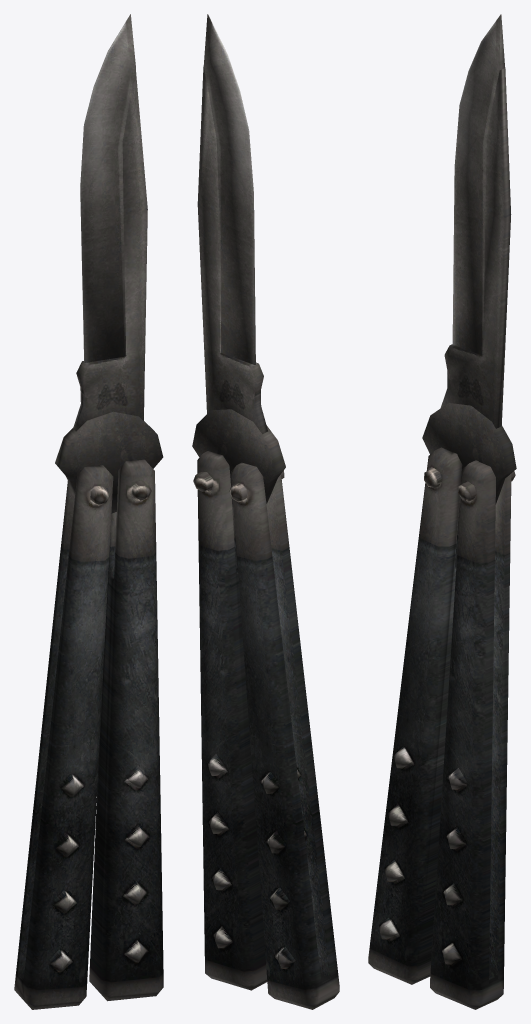
File: TP_Butterfly.obj
The picture shows the model from 3 angles, left to right: view 1: azimuth 30°, elevation 25°; view 2: azimuth 150°, elevation 25°; view 3: azimuth 330°, elevation 25°; orthographic projection.
Parts seen in each view (by area): view 1: TP_Butterfly; view 2: TP_Butterfly; view 3: TP_Butterfly.
Boxes of the visible parts, <box> form: TP_Butterfly: <box>14,14,163,1009</box>; TP_Butterfly: <box>192,14,339,1009</box>; TP_Butterfly: <box>368,14,516,1009</box>.
Bounding box in the file's own units: 0.0402 × 0.2652 × 0.0235.
Materials: 1 (1 with a texture image).
